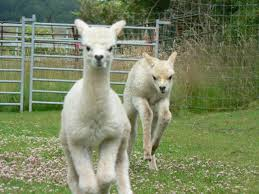alpaca: (58, 18, 131, 194), (122, 50, 177, 170)
